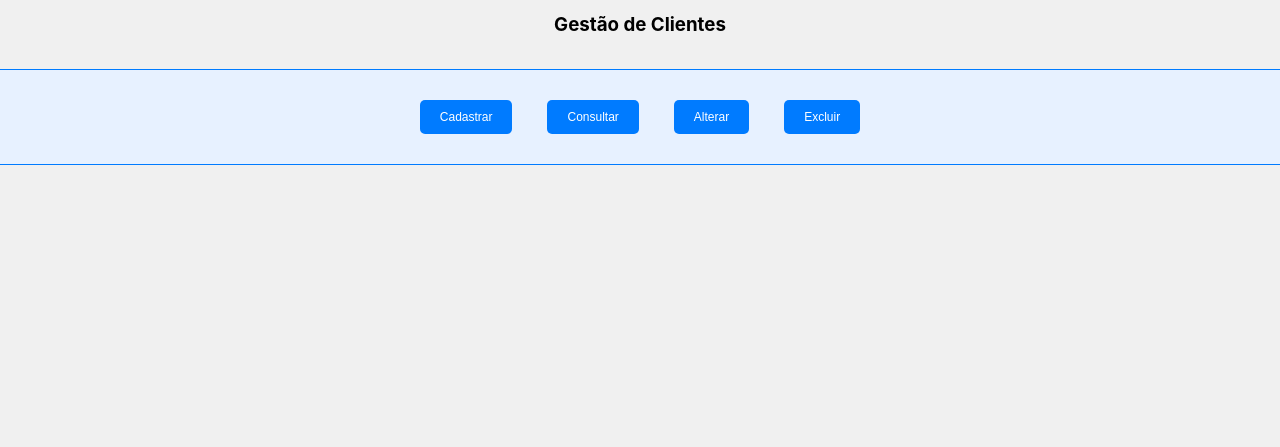
ct02 - ao clicar em cadastrar deve navegar para ClienteCadastrarView
Simula um clique no botão "Cadastrar"
Step 1. Click the button "Cadastrar" → (466, 117), box 420,100 -> 512,134
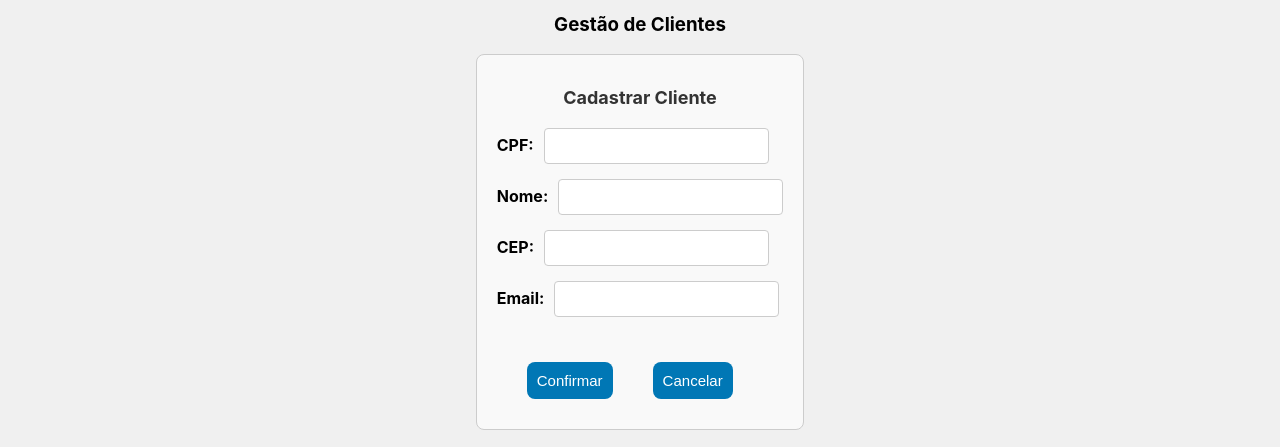
Expected: the heading "Cadastrar Cliente" is shown, 563,88 -> 717,108
